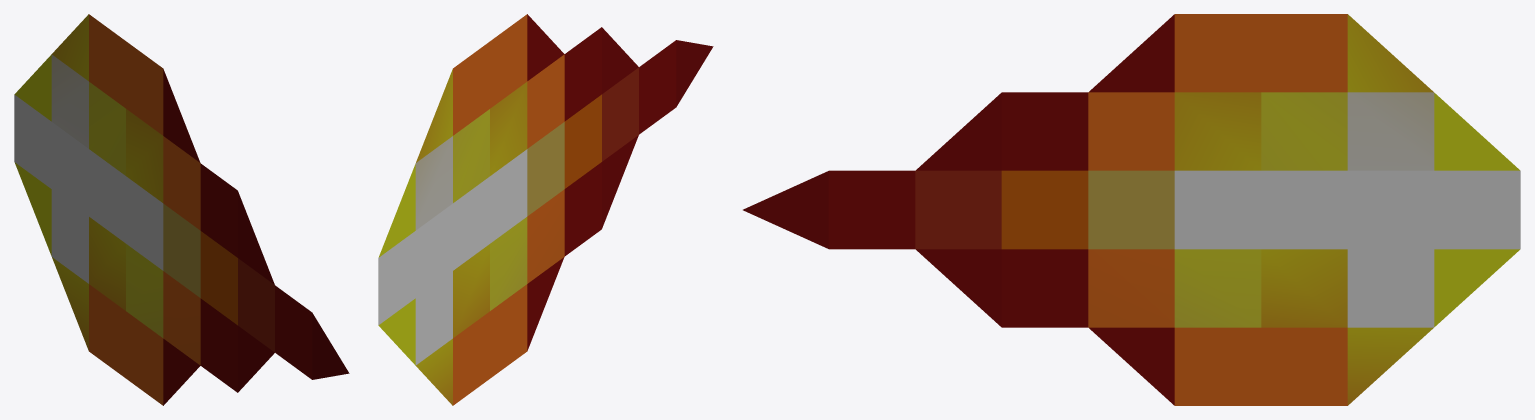
The model's file is Eff_Avatar_Sparxie_00_Skill02_Gift_02.fbx.
3 renders of one model, left to right at view 1: azimuth 30°, elevation 25°; view 2: azimuth 150°, elevation 25°; view 3: azimuth 270°, elevation 25°, orthographic. The views are drawn at different scales.
Parts seen in each view (by area): view 1: Eff_Avatar_Sparxie_00_Skill02_Gift_02; view 2: Eff_Avatar_Sparxie_00_Skill02_Gift_02; view 3: Eff_Avatar_Sparxie_00_Skill02_Gift_02.
Boxes of the visible parts, bbox=[...] form: Eff_Avatar_Sparxie_00_Skill02_Gift_02: bbox=[14, 14, 349, 405]; Eff_Avatar_Sparxie_00_Skill02_Gift_02: bbox=[378, 14, 713, 405]; Eff_Avatar_Sparxie_00_Skill02_Gift_02: bbox=[743, 14, 1520, 405].
Bounding box in the file's own units: 6.66e-08 × 0.25 × 0.45.
